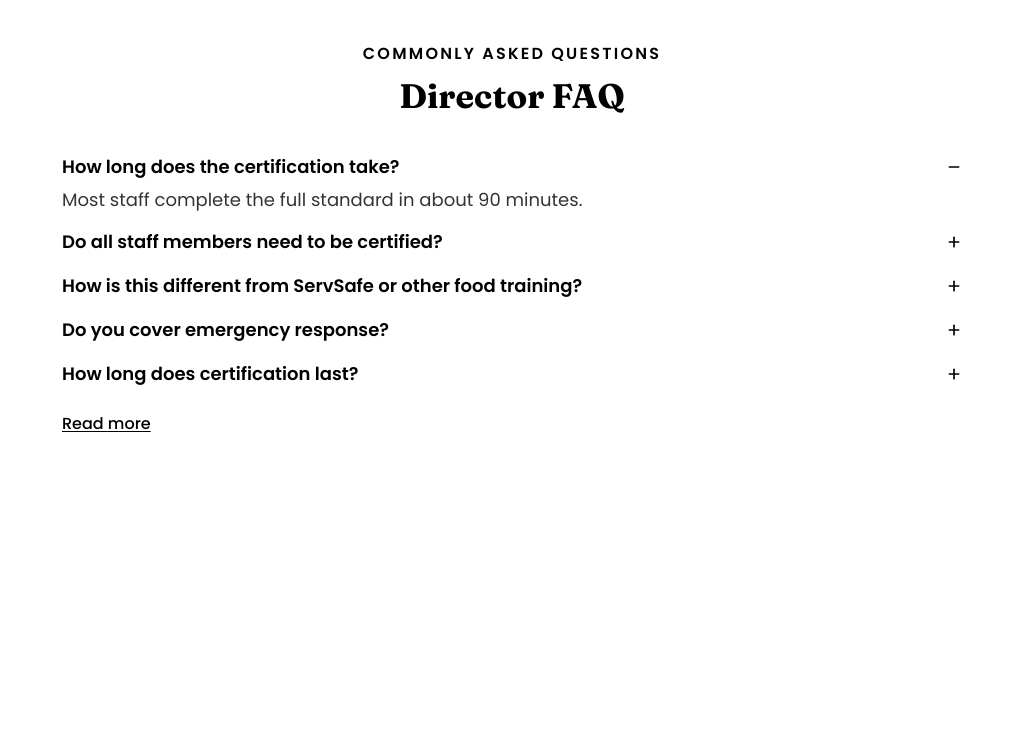
Scenario: DirectorFaq › collapses back to the initial five questions
This screenshot has width=1024, height=749.
Click the button "Read more".
click(106, 424)  # box [62,412,151,436]
(page scrolled)
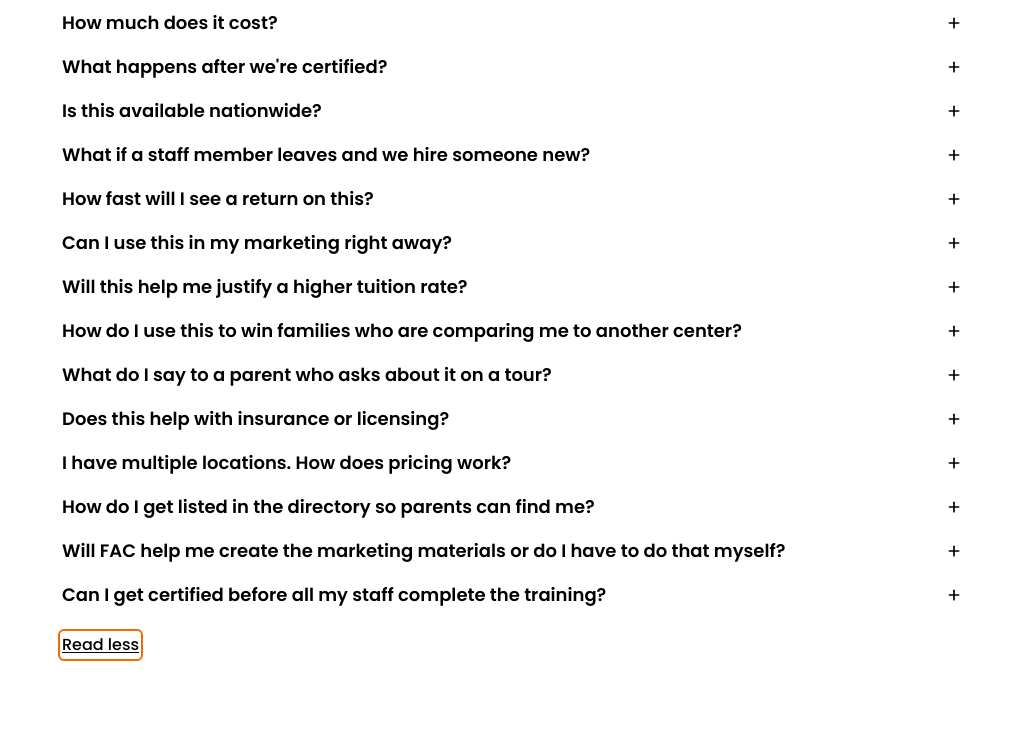
Click the button "Read less".
click(100, 645)  # box [62,633,139,657]
(page scrolled)
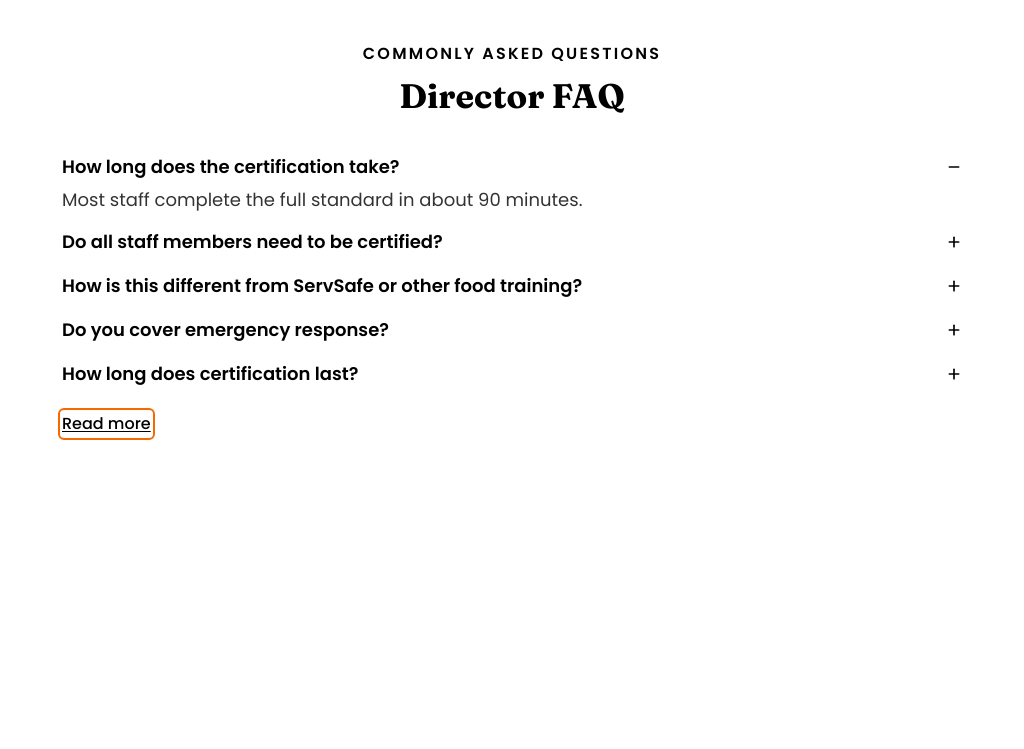
Result: the button "How much does it cost?" is gone
Result: the button "Read more" is collapsed at [62,412,151,436]
